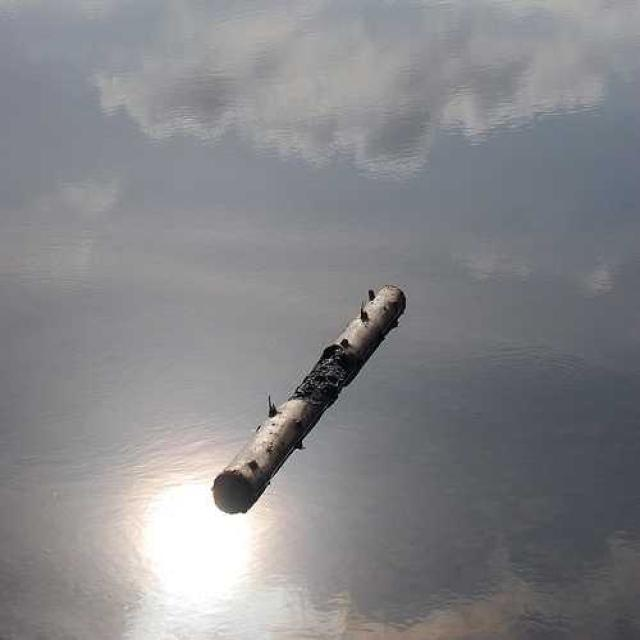missile: (212, 287, 410, 520)
